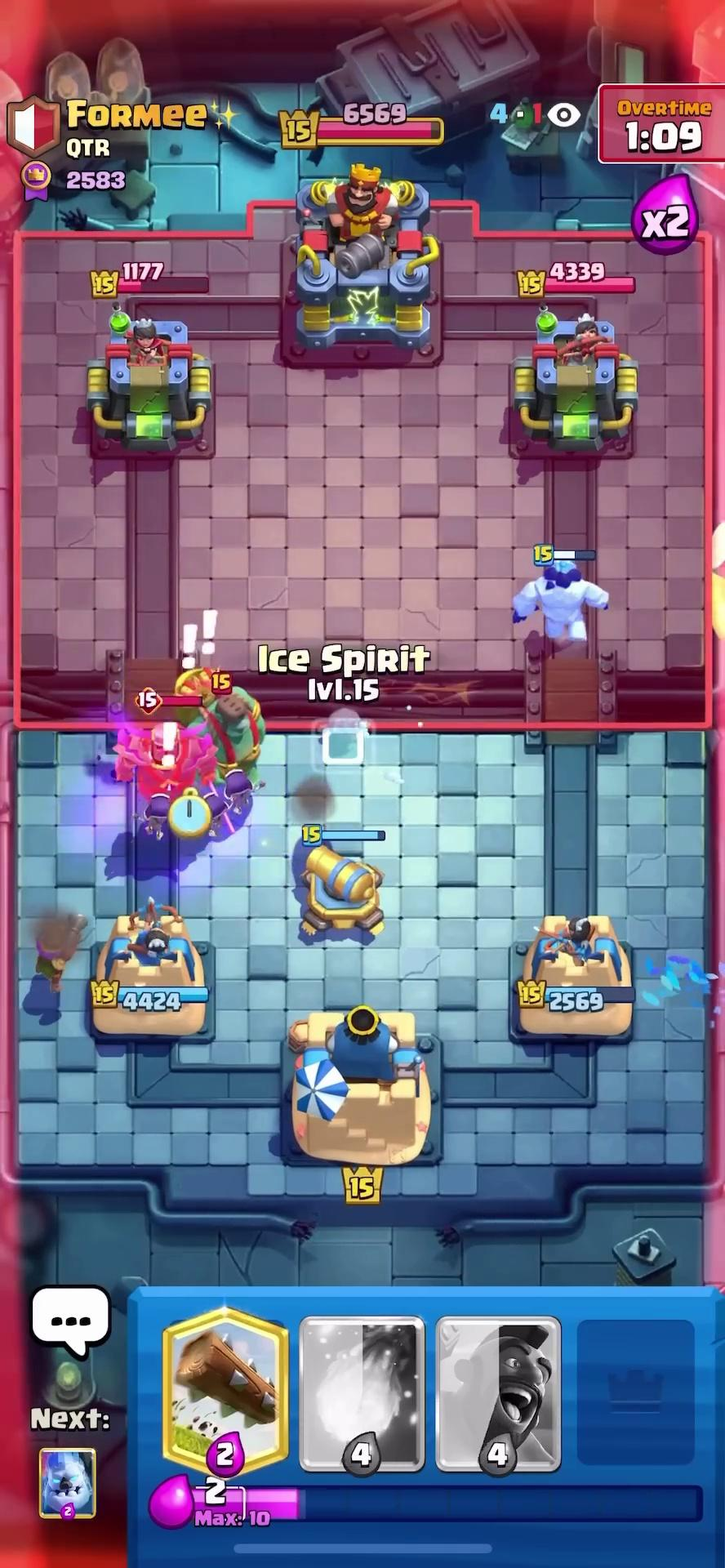cannon: (284, 819, 404, 941)
evo_skeletons: (139, 770, 274, 839)
ice_golem: (520, 535, 606, 647)
musketeer: (22, 892, 98, 992)
